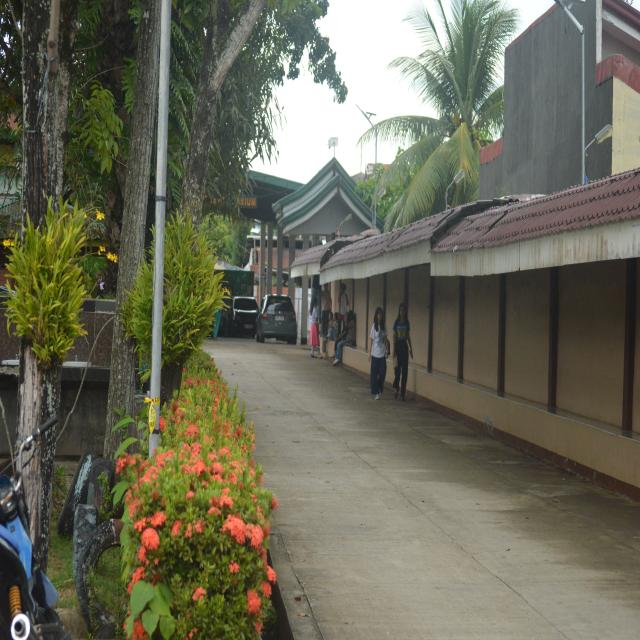person: (393, 303, 413, 400), (369, 307, 388, 399), (333, 310, 356, 366), (310, 300, 319, 357)
